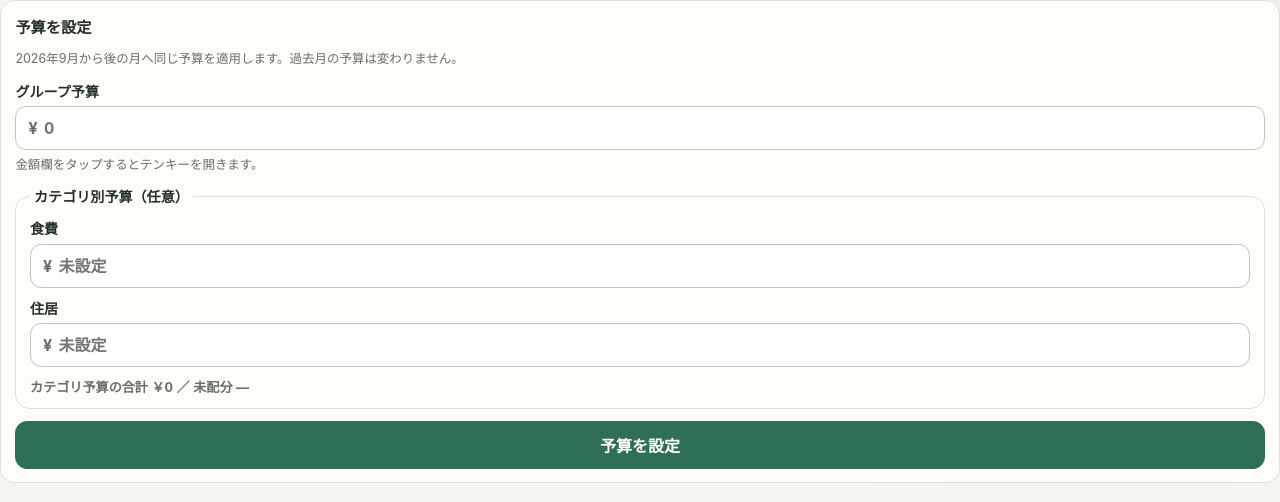
Test: BudgetEditor › カテゴリ予算の合計がグループ予算を超えると送信を無効化する (AC-BUD-002-2)
Type "100000" into the field labelled "グループ予算". click: (648,128)
box: 44,107 -> 1252,149
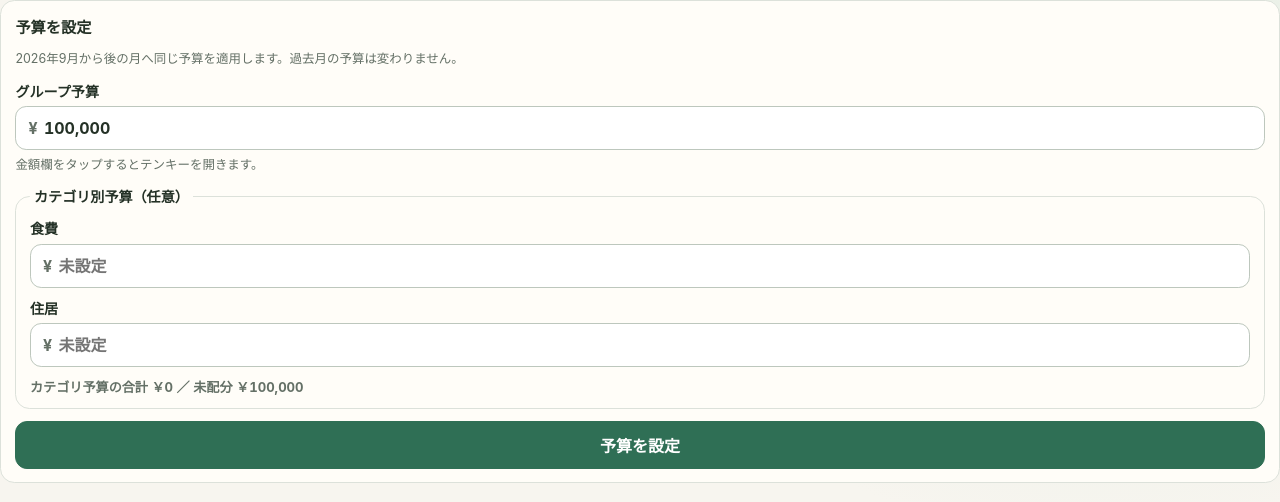
Type "60000" into the field labelled "食費". click: (648,266)
box: 58,245 -> 1237,287
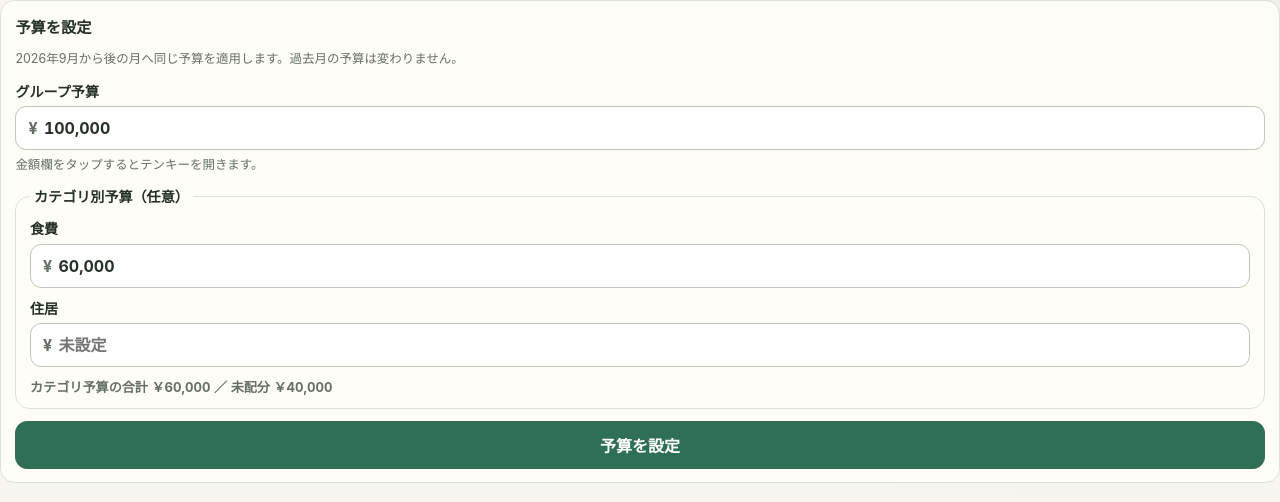
Type "50000" into the field labelled "住居". click: (648,345)
box: 58,324 -> 1237,366
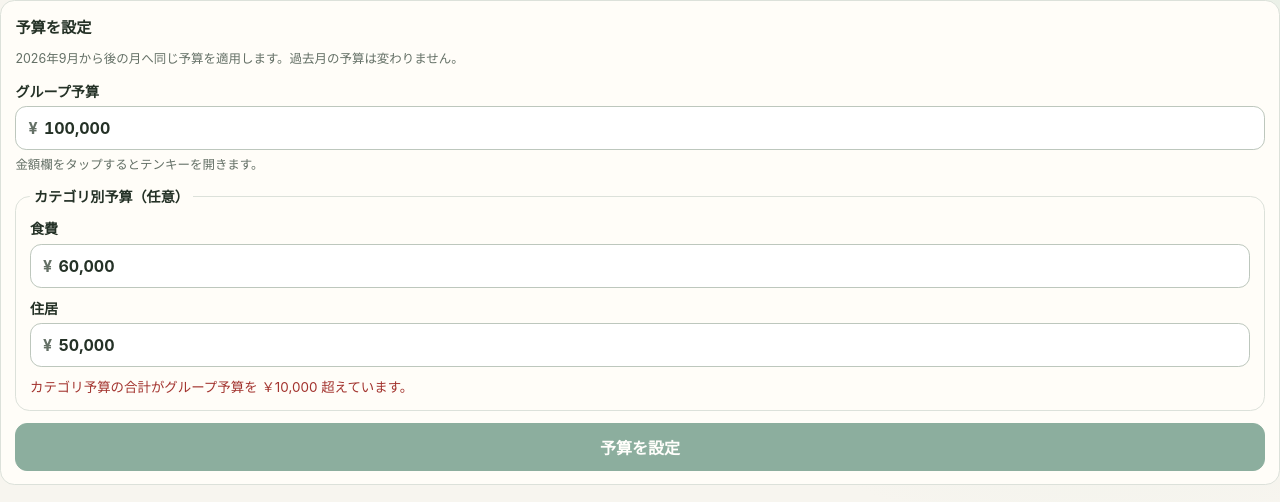
Result: the text "カテゴリ予算の合計がグループ予算を ￥10,000 超えています。" is shown at 30,379 -> 413,395
Result: the button "予算を設定" is disabled at 15,423 -> 1265,471
